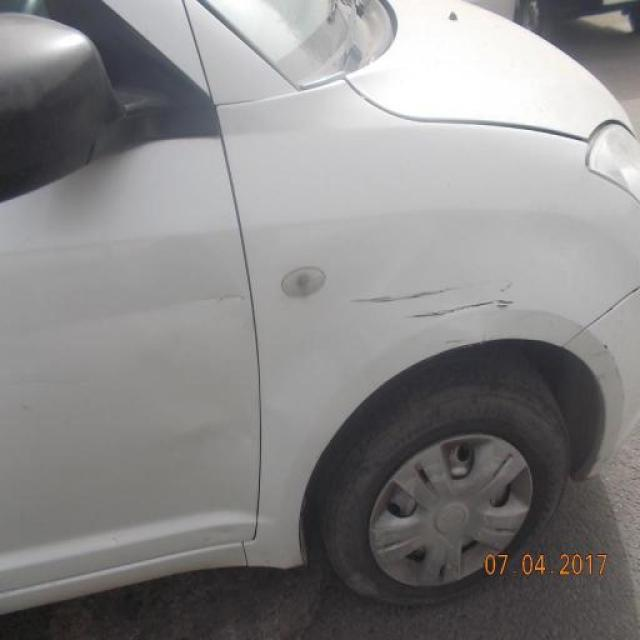dent: (130, 321, 264, 488), (0, 288, 246, 351)
scratch: (404, 281, 523, 331), (347, 277, 463, 316)
